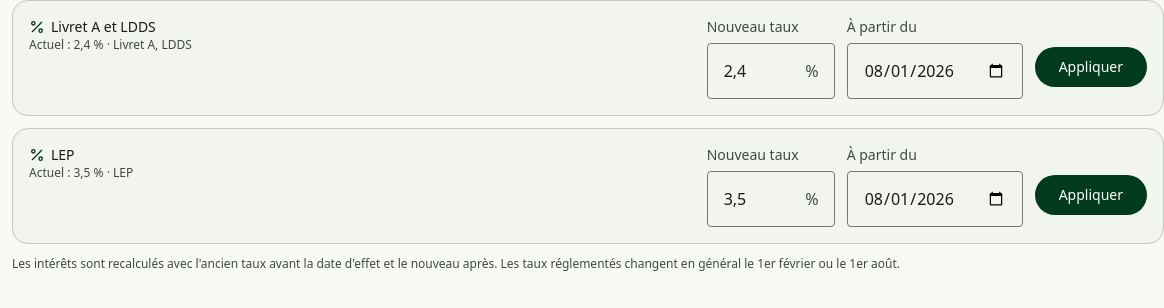
Scenario: RegulatedRatesEditor › signale un taux illisible et bloque « Appliquer »
Step 1. Replace the text in the field named "Nouveau taux, LEP" with "abc" → (771, 199), box 707,171 -> 835,227
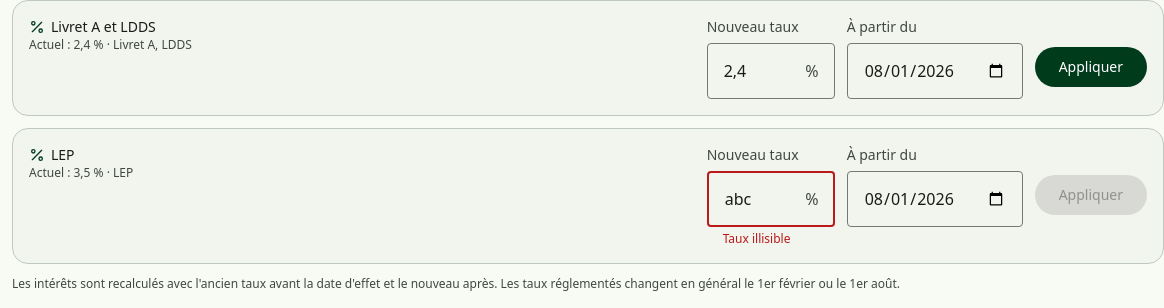
Check: the message reads "Taux illisible", box 723,230 -> 790,247
Check: the button "Appliquer" in the row of "3,5 %" is disabled, box 1035,175 -> 1147,215
